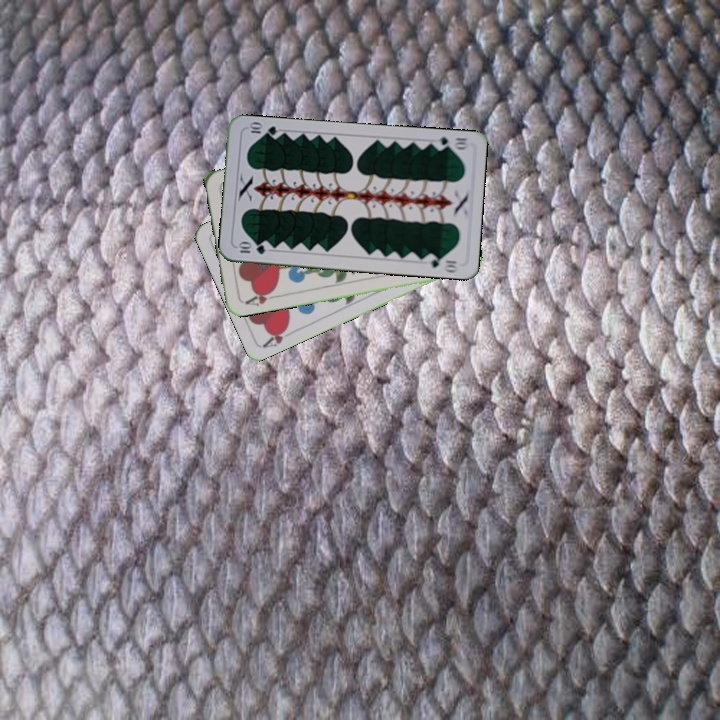G10: (430, 133, 471, 153), (234, 239, 268, 257)
HA: (259, 321, 298, 350), (241, 286, 280, 309)
